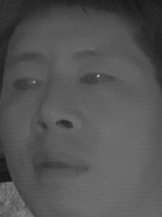eye: (76, 65, 117, 94), (9, 72, 44, 95)
mouth: (28, 145, 90, 189)
